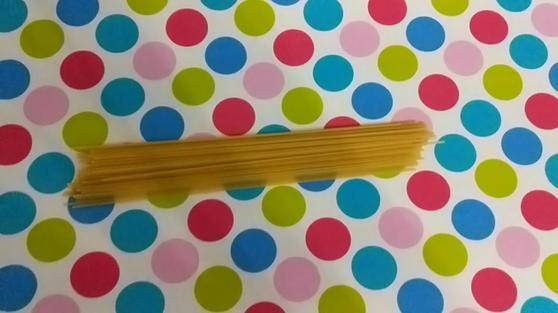spaghetti: (52, 114, 454, 218)
